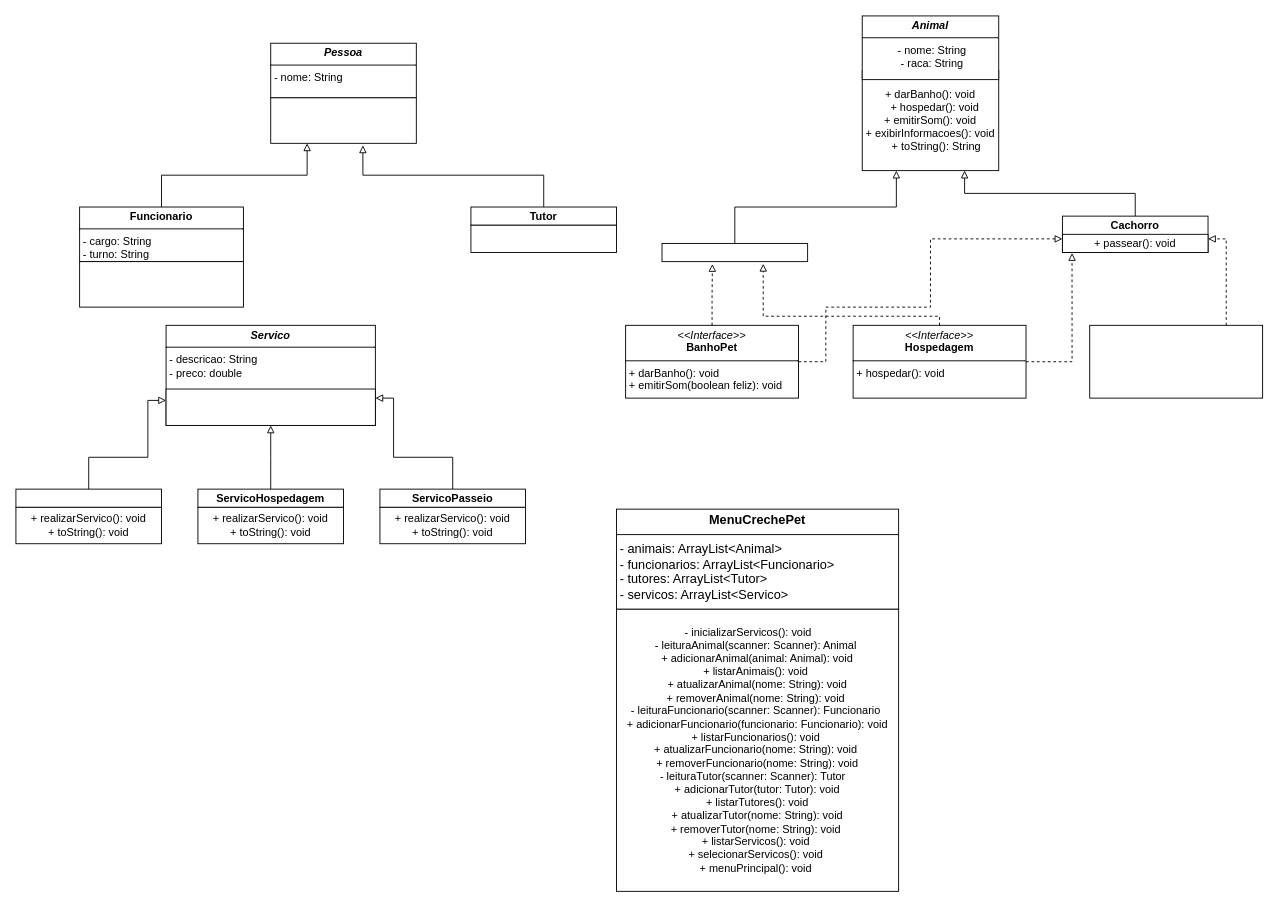
Image size: 1279x907. Some labels were removed from this diagram. Here are the shapes that lost their labels. From the top down, the centre of each, then its label:
At [343,120]: "+ exibirInformacoes(): void + toString(): String".
At [543,238]: "+ exibirInformacoes(): void".
At [734,252]: "Gato".
At [161,284]: "+ exibirInformacoes(String turno): void".
At [1176,361]: "<<Interface>> PasseioPet + passear(): void + emitirSom(int vezes): void".
At [270,406]: "+ realizarServico(): void + toString(): String".
At [88,497]: "ServicoBanho - tipoPet: String".
